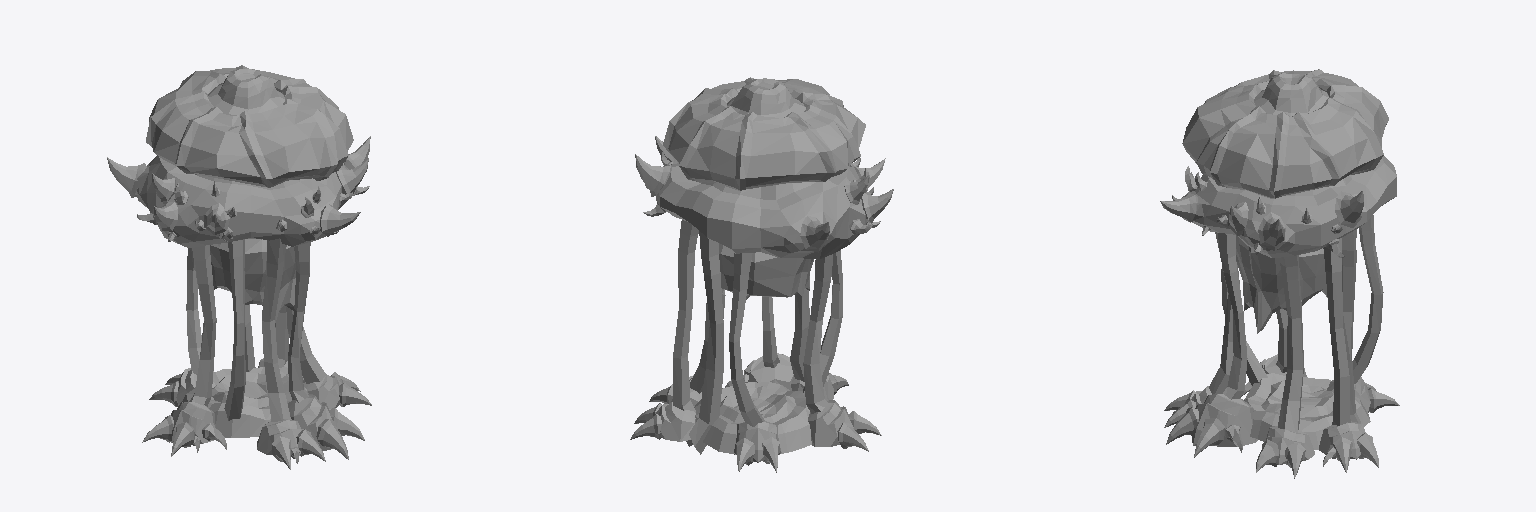
File: Spire.obj
The picture shows the model from 3 angles: view 1: azimuth 30°, elevation 25°; view 2: azimuth 150°, elevation 25°; view 3: azimuth 270°, elevation 25°; orthographic projection.
Visible parts, largest first — view 1: SoA_Spire.m3; view 2: SoA_Spire.m3; view 3: SoA_Spire.m3.
Part boxes in pixels (x1,y1,x2,y2): SoA_Spire.m3: (107,65,371,469); SoA_Spire.m3: (630,77,893,472); SoA_Spire.m3: (1160,69,1399,478).
Bounding box in the file's own units: 2.55 × 3.81 × 2.33.